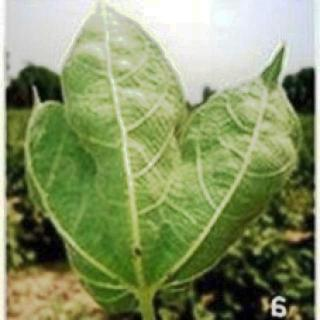curl: (26, 12, 302, 314)
